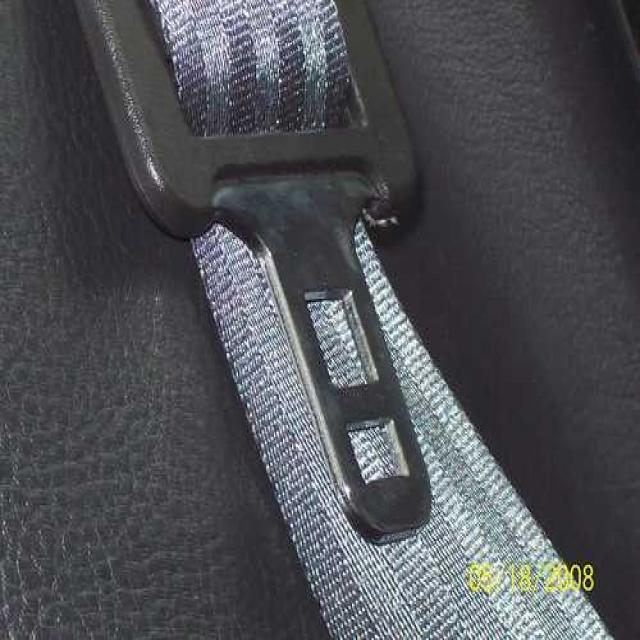seatbelt: (88, 22, 494, 522)
